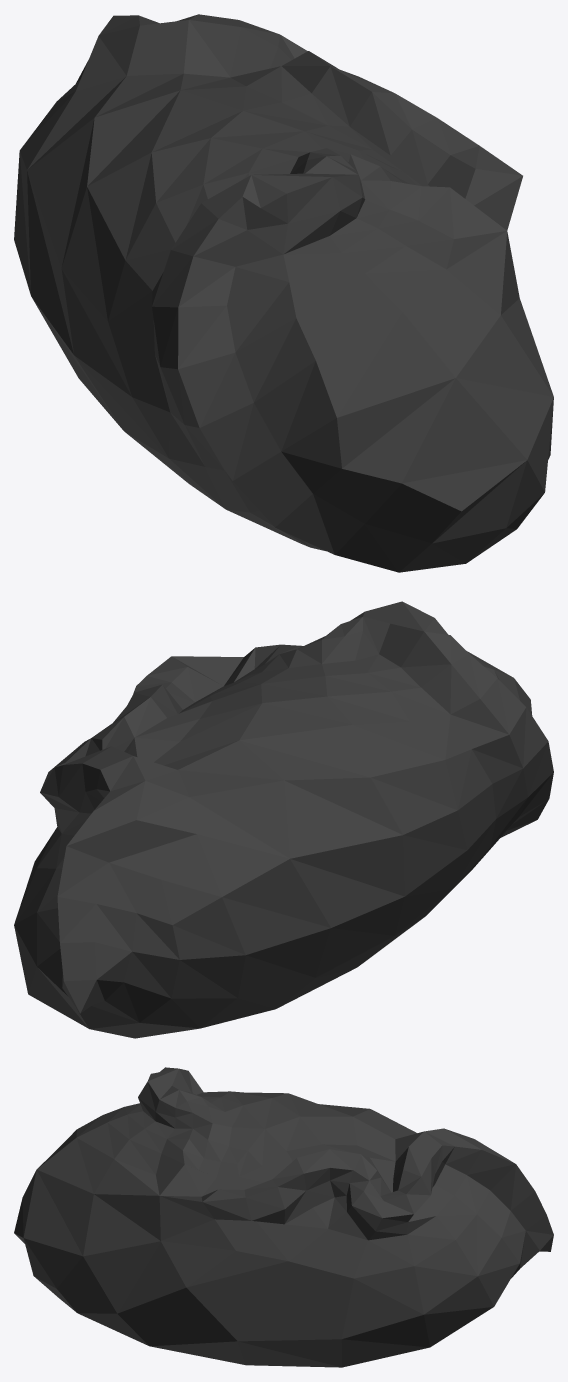
The model's file is Ovary_L.glb.
3 views of the same model, one above another, from view 1: azimuth 30°, elevation 25°; view 2: azimuth 150°, elevation 25°; view 3: azimuth 270°, elevation 25° (orthographic). The views are drawn at different scales.
Parts seen in each view (by area): view 1: Ovary_L; view 2: Ovary_L; view 3: Ovary_L.
Boxes of the visible parts, x1,y1,x2,y2 form: Ovary_L: [14, 14, 553, 572]; Ovary_L: [14, 601, 553, 1038]; Ovary_L: [14, 1067, 553, 1367].
Bounding box in the file's own units: 0.3234 × 0.3089 × 0.6215.
Materials: 1 (1 with a texture image).
